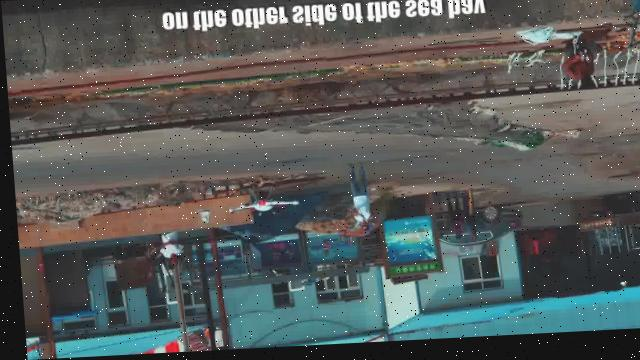drone: (209, 175, 304, 239)
